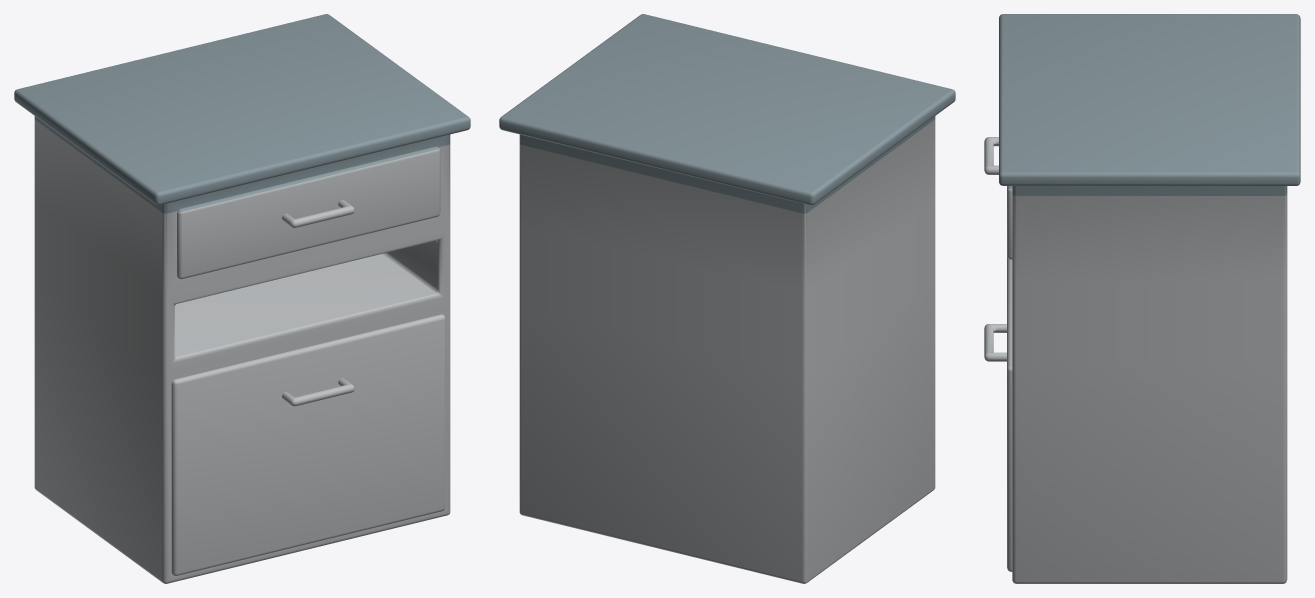
File: hp_cabinet_drawers.glb
The picture shows the model from 3 angles, left to right: view 1: azimuth 30°, elevation 25°; view 2: azimuth 150°, elevation 25°; view 3: azimuth 270°, elevation 25°; orthographic projection. The views are drawn at different scales.
Parts seen in each view (by area): view 1: Cabinet_3; view 2: Cabinet_3; view 3: Cabinet_3.
Boxes of the visible parts, bbox=[...] form: Cabinet_3: bbox=[14, 14, 470, 583]; Cabinet_3: bbox=[499, 14, 955, 583]; Cabinet_3: bbox=[984, 14, 1300, 583].
Size of the model in its own units: 0.6607 by 0.8 by 0.5472.
